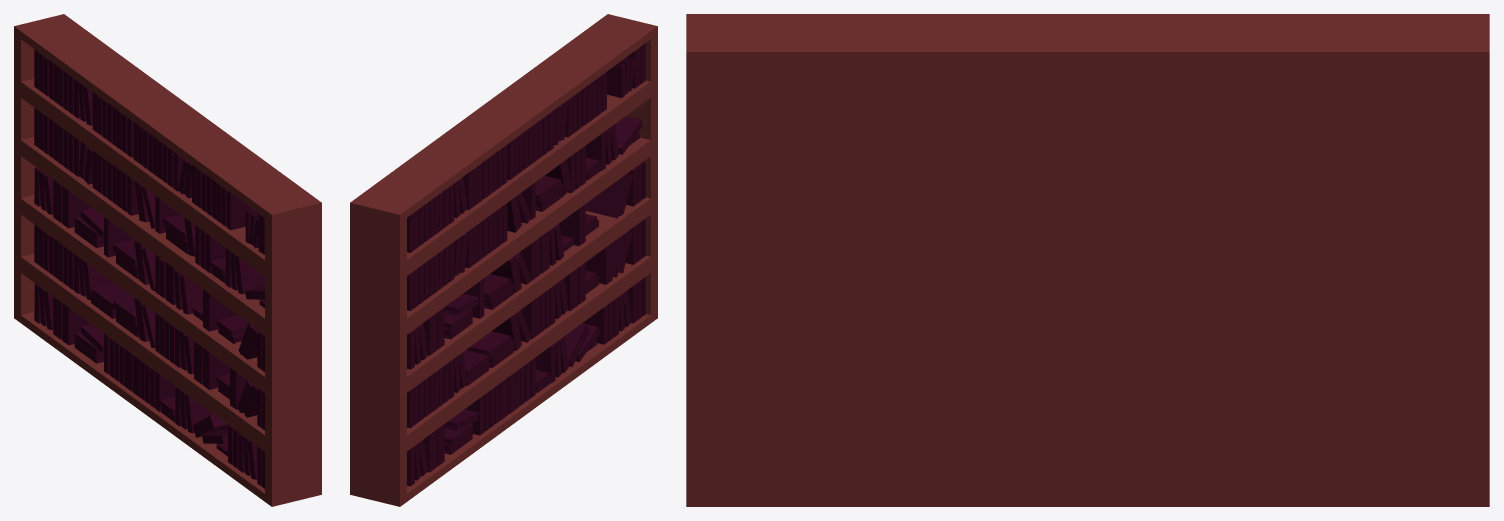
The model's file is Bookshelf.FBX.
The picture shows the model from 3 angles, left to right: view 1: azimuth 30°, elevation 25°; view 2: azimuth 150°, elevation 25°; view 3: azimuth 270°, elevation 25°; orthographic projection. The views are drawn at different scales.
Parts seen in each view (by area): view 1: Box002, Box037, Box145, Box011, Box191, Box035, Box058, Box088, Box018, Box062, Box069, Box099 (+21 smaller); view 2: Box002, Box019, Box037, Box026, Box014, Box140, Box063, Box198, Box138, Box039, Box029, Box067 (+20 smaller); view 3: Box002.
Part boxes in pixels (x1,y1,x2,y2): Box002: (14, 14, 321, 506); Box037: (203, 289, 237, 331); Box145: (234, 255, 264, 294); Box011: (203, 348, 229, 389); Box191: (226, 190, 252, 230); Box035: (179, 274, 202, 314); Box058: (62, 186, 91, 228); Box088: (62, 303, 90, 345); Box018: (91, 283, 132, 310); Box062: (104, 217, 133, 257); Box069: (184, 393, 213, 433); Box099: (82, 261, 113, 300); Box002: (350, 14, 657, 506); Box019: (585, 175, 628, 218); Box037: (558, 204, 585, 246); Box026: (585, 243, 612, 284); Box014: (466, 331, 511, 358); Box140: (615, 116, 642, 154); Box063: (564, 323, 589, 366); Box198: (607, 63, 624, 98); Box138: (582, 304, 608, 344); Box039: (484, 274, 511, 301); Box029: (490, 254, 521, 292); Box067: (535, 343, 555, 383); Box002: (686, 14, 1489, 506).
Size of the model in its own units: 15.91 by 88.64 by 142.
